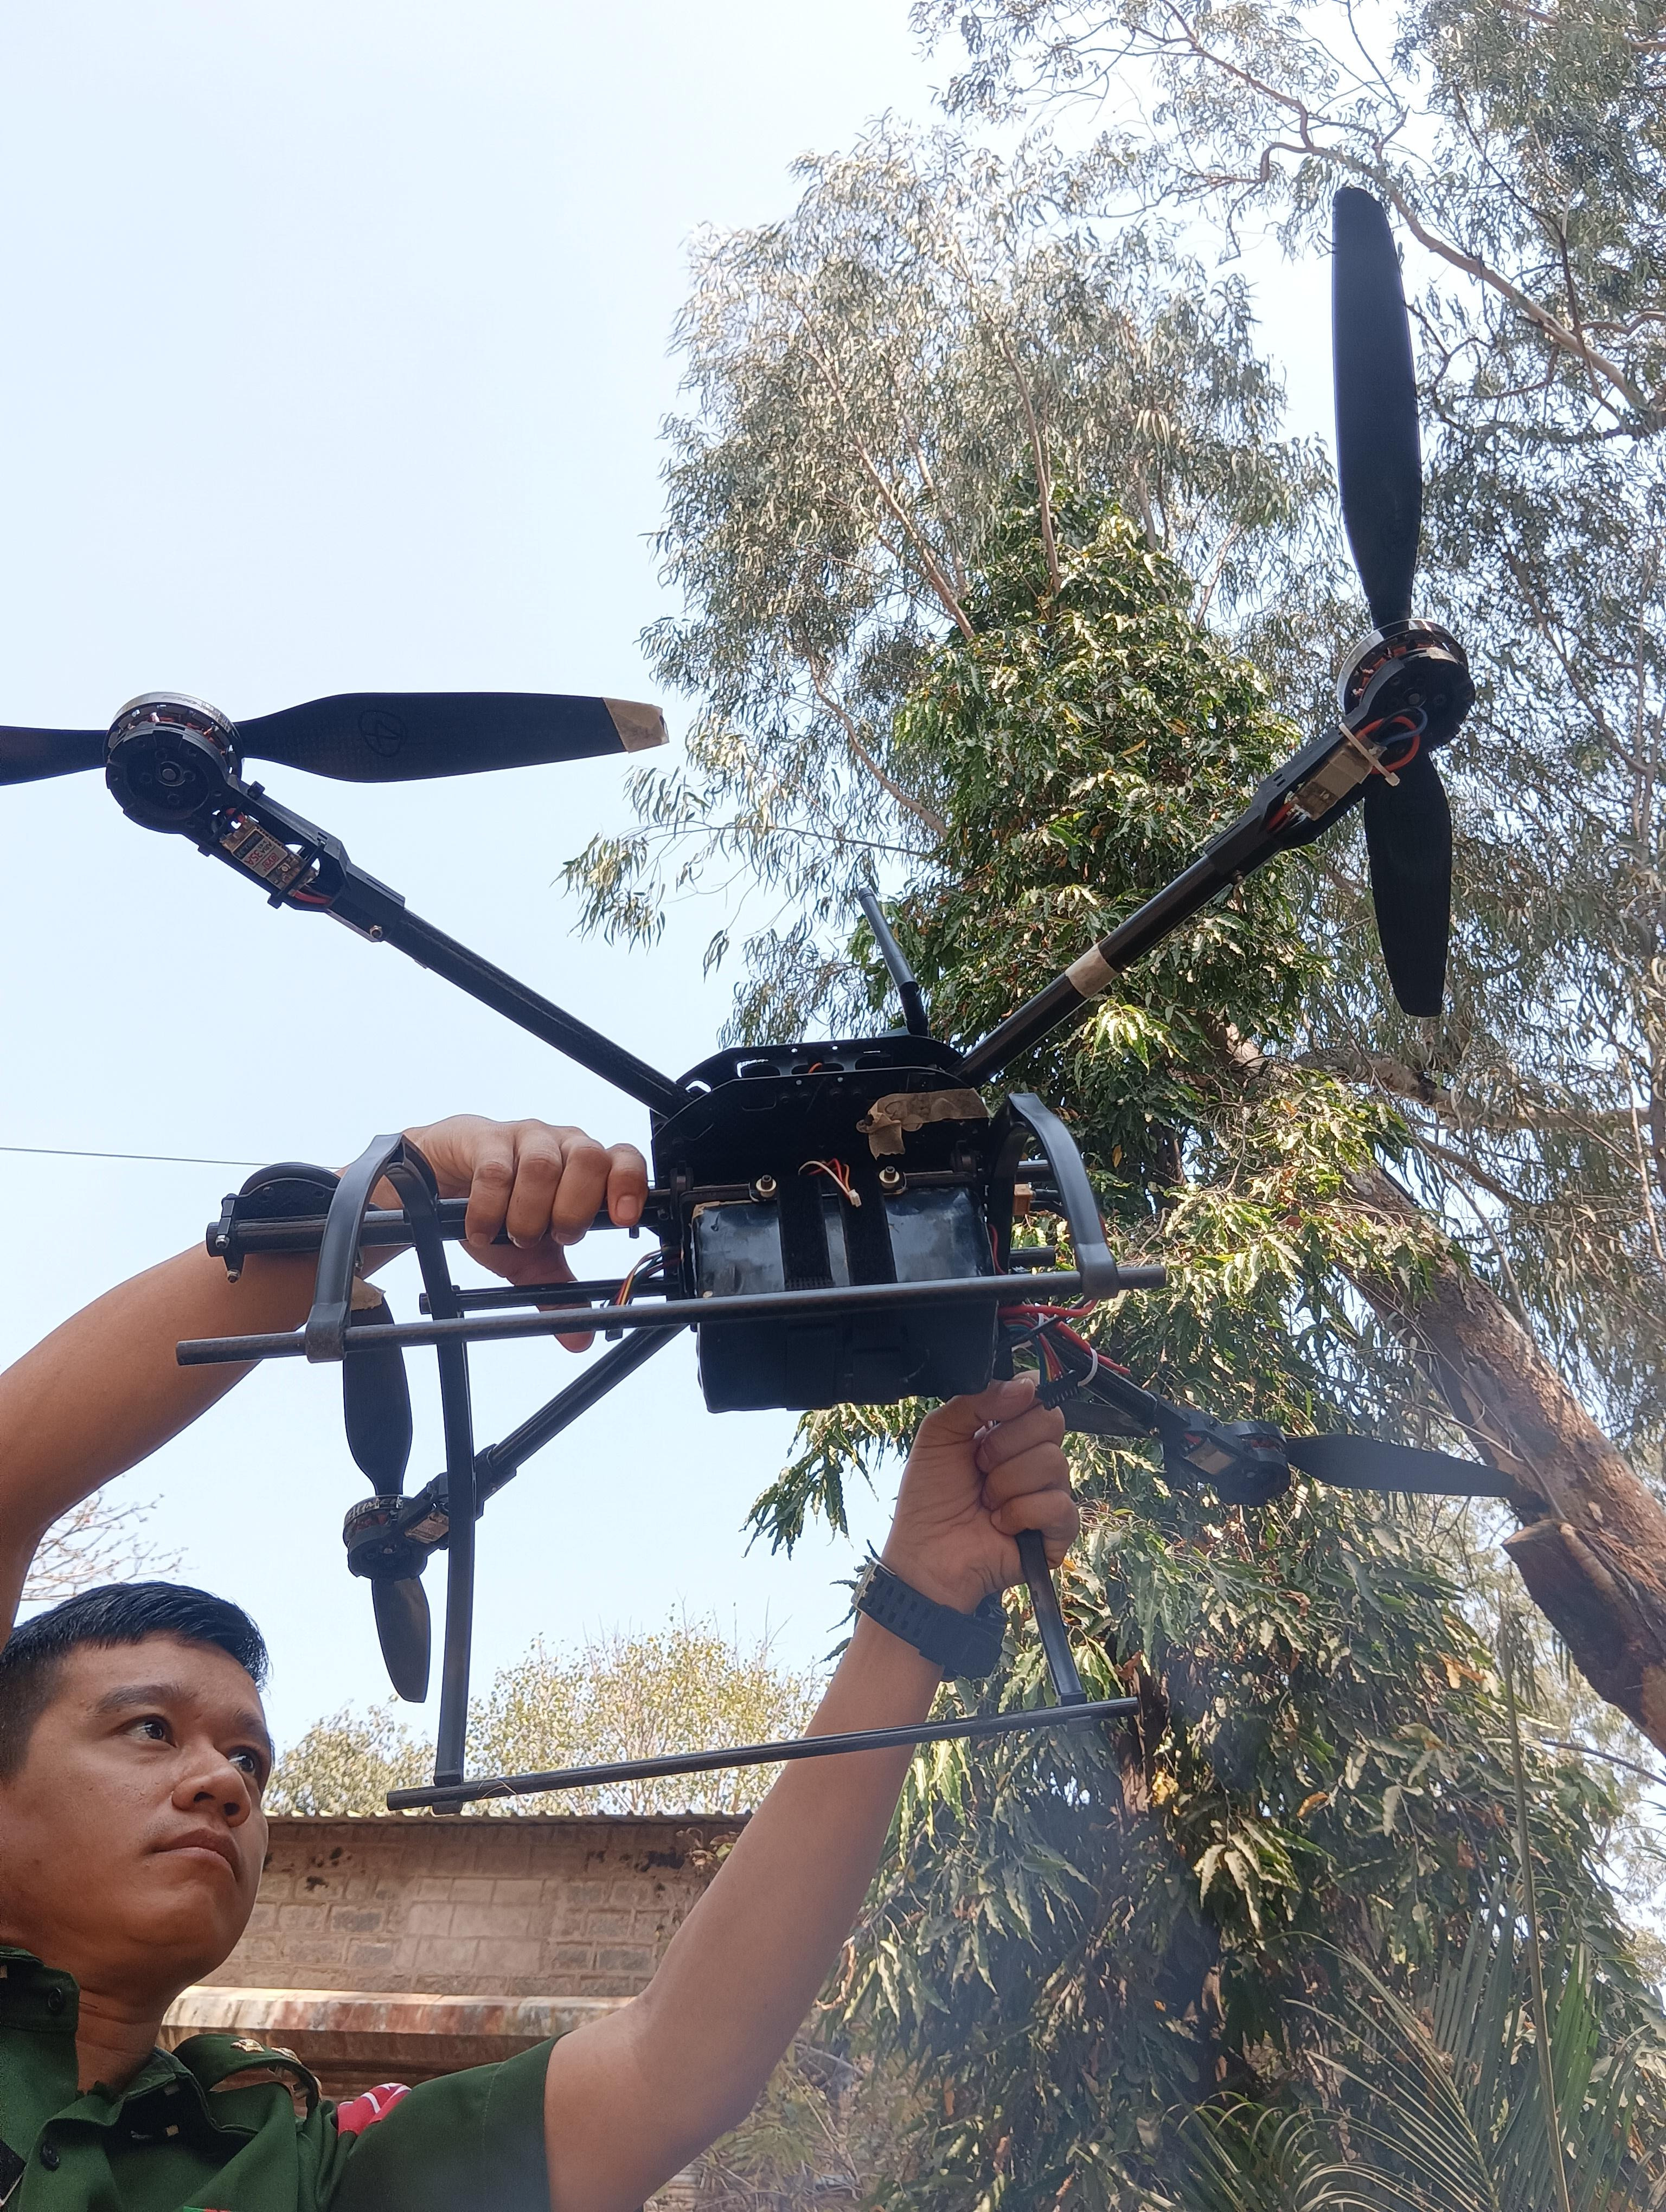drone: (12, 126, 1610, 1824)
